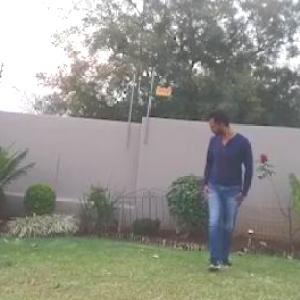follow: (199, 91, 259, 289)
